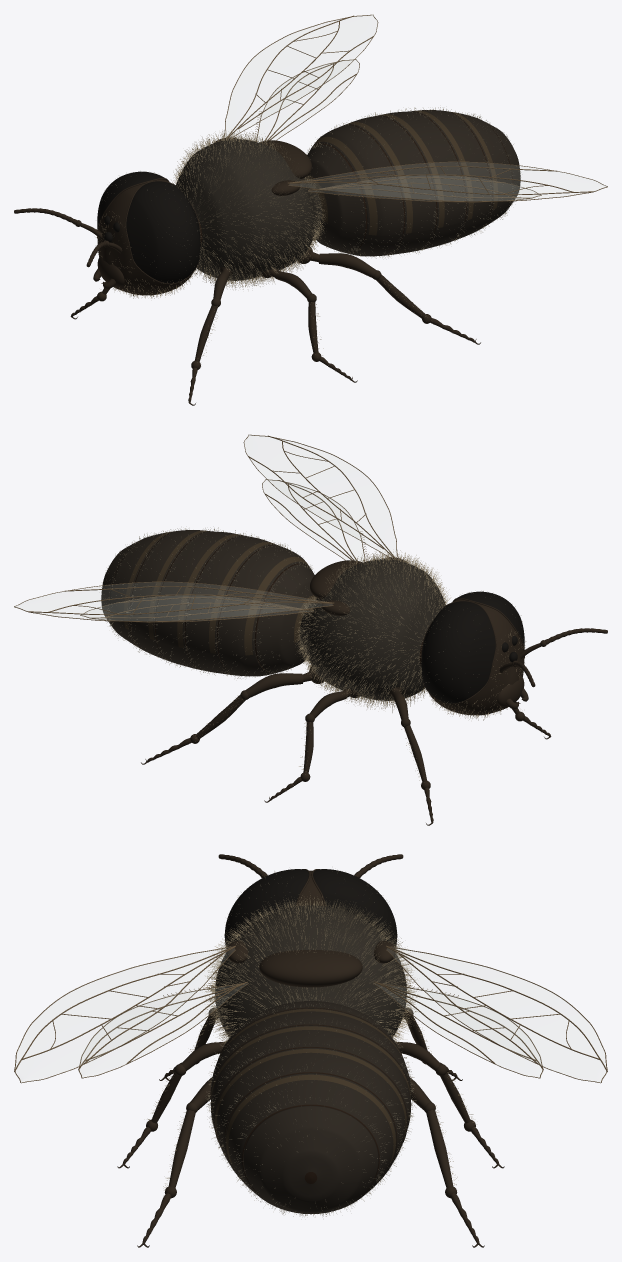
File: apis-cerana-drone.glb
3 views of the same model, one above another, from view 1: azimuth 30°, elevation 25°; view 2: azimuth 150°, elevation 25°; view 3: azimuth 270°, elevation 25° (orthographic). The views are drawn at different scales.
Visible parts, largest first — view 1: Thorax | continuous mesosoma.001, Forewing_1_membrane.001, Forewing_-1_membrane.001, Compound_eye_-1.001, Thoracic dense coat.001, Abdomen | tergite 2.001, Abdomen | tergite 3.001, Abdomen | tergite 4.001, Abdomen | tergite 1.001, Abdomen | tergite 5.001, Head | sculpted capsule.001, Abdomen | tergite 6.001 (+10 smaller); view 2: Thorax | continuous mesosoma.001, Forewing_-1_membrane.001, Forewing_1_membrane.001, Compound_eye_1.001, Thoracic dense coat.001, Abdomen | tergite 2.001, Abdomen | tergite 3.001, Abdomen | tergite 4.001, Abdomen | tergite 1.001, Abdomen | tergite 5.001, Head | sculpted capsule.001, Abdomen | tergite 6.001 (+10 smaller); view 3: Thorax | continuous mesosoma.001, Forewing_-1_membrane.001, Forewing_1_membrane.001, Abdomen | tergite 7.001, Abdomen | tergite 6.001, Thoracic dense coat.001, Abdomen | tergite 5.001, Abdomen | tergite 4.001, Abdomen | tergite 3.001, Scutellum.001, Compound_eye_1.001, Compound_eye_-1.001 (+9 smaller).
Part boxes in pixels (<box>): Thorax | continuous mesosoma.001: <box>176,139,322,280</box>; Forewing_1_membrane.001: <box>226,15,376,133</box>; Forewing_-1_membrane.001: <box>290,162,606,200</box>; Compound_eye_-1.001: <box>126,181,200,283</box>; Thoracic dense coat.001: <box>171,130,326,289</box>; Abdomen | tergite 2.001: <box>311,124,405,253</box>; Abdomen | tergite 3.001: <box>344,115,437,254</box>; Abdomen | tergite 4.001: <box>378,111,467,249</box>; Abdomen | tergite 1.001: <box>306,143,367,252</box>; Abdomen | tergite 5.001: <box>412,110,492,239</box>; Head | sculpted capsule.001: <box>97,179,192,295</box>; Abdomen | tergite 6.001: <box>449,111,513,226</box>; Thorax | continuous mesosoma.001: <box>299,559,445,700</box>; Forewing_-1_membrane.001: <box>245,435,395,554</box>; Forewing_1_membrane.001: <box>15,582,331,620</box>; Compound_eye_1.001: <box>421,601,495,703</box>; Thoracic dense coat.001: <box>295,550,450,712</box>; Abdomen | tergite 2.001: <box>216,544,310,673</box>; Abdomen | tergite 3.001: <box>184,535,277,674</box>; Abdomen | tergite 4.001: <box>154,531,243,669</box>; Abdomen | tergite 1.001: <box>254,563,316,672</box>; Abdomen | tergite 5.001: <box>129,530,209,659</box>; Head | sculpted capsule.001: <box>429,599,524,715</box>; Abdomen | tergite 6.001: <box>108,531,173,646</box>; Thorax | continuous mesosoma.001: <box>215,905,406,1037</box>; Forewing_-1_membrane.001: <box>16,947,234,1081</box>; Forewing_1_membrane.001: <box>387,947,605,1081</box>; Abdomen | tergite 7.001: <box>243,1105,378,1199</box>; Abdomen | tergite 6.001: <box>225,1073,396,1205</box>; Thoracic dense coat.001: <box>204,893,419,1044</box>; Abdomen | tergite 5.001: <box>214,1047,407,1165</box>; Abdomen | tergite 4.001: <box>210,1025,411,1137</box>; Abdomen | tergite 3.001: <box>210,1008,411,1098</box>; Scutellum.001: <box>259,950,362,987</box>; Compound_eye_1.001: <box>313,869,397,948</box>; Compound_eye_-1.001: <box>224,869,308,948</box>.
Bounding box in the file's own units: 0.013 × 0.00533 × 0.0117.
